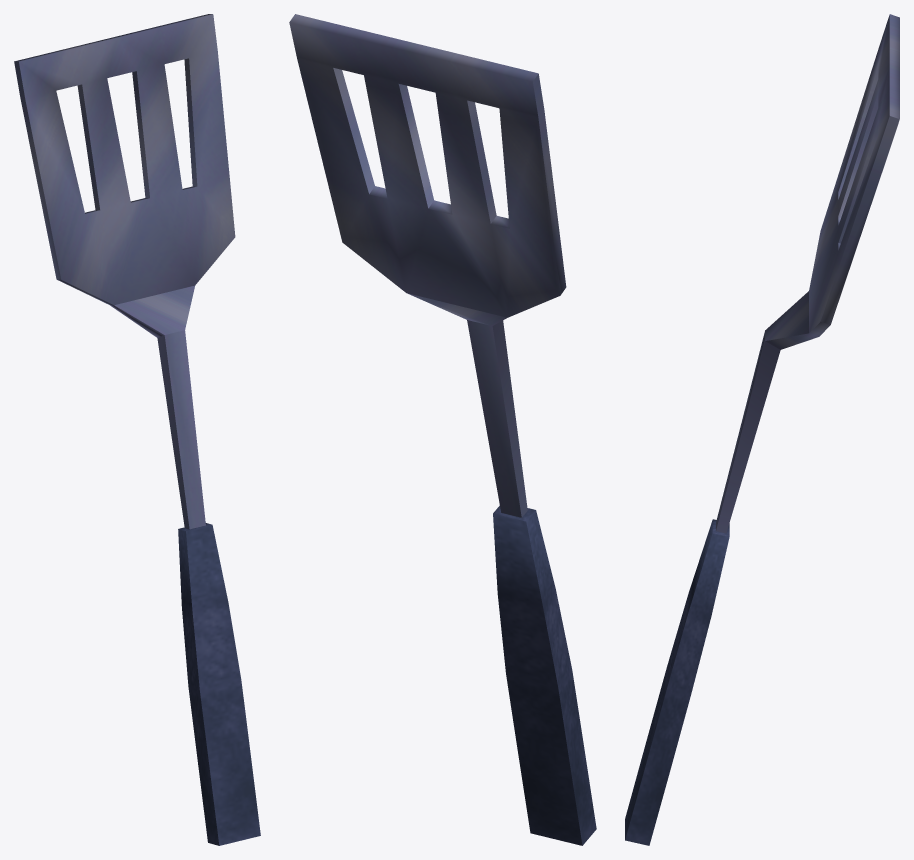
File: spatula.glb
The picture shows the model from 3 angles, left to right: view 1: azimuth 30°, elevation 25°; view 2: azimuth 150°, elevation 25°; view 3: azimuth 270°, elevation 25°; orthographic projection. The views are drawn at different scales.
Visible parts, largest first — view 1: Object_1; view 2: Object_1; view 3: Object_1.
Boxes of the visible parts, <box> form: Object_1: <box>14,14,260,845</box>; Object_1: <box>289,14,596,845</box>; Object_1: <box>625,14,899,845</box>.
Size of the model in its own units: 0.6078 by 2.14 by 0.6933.
1 material, 1 textured.
